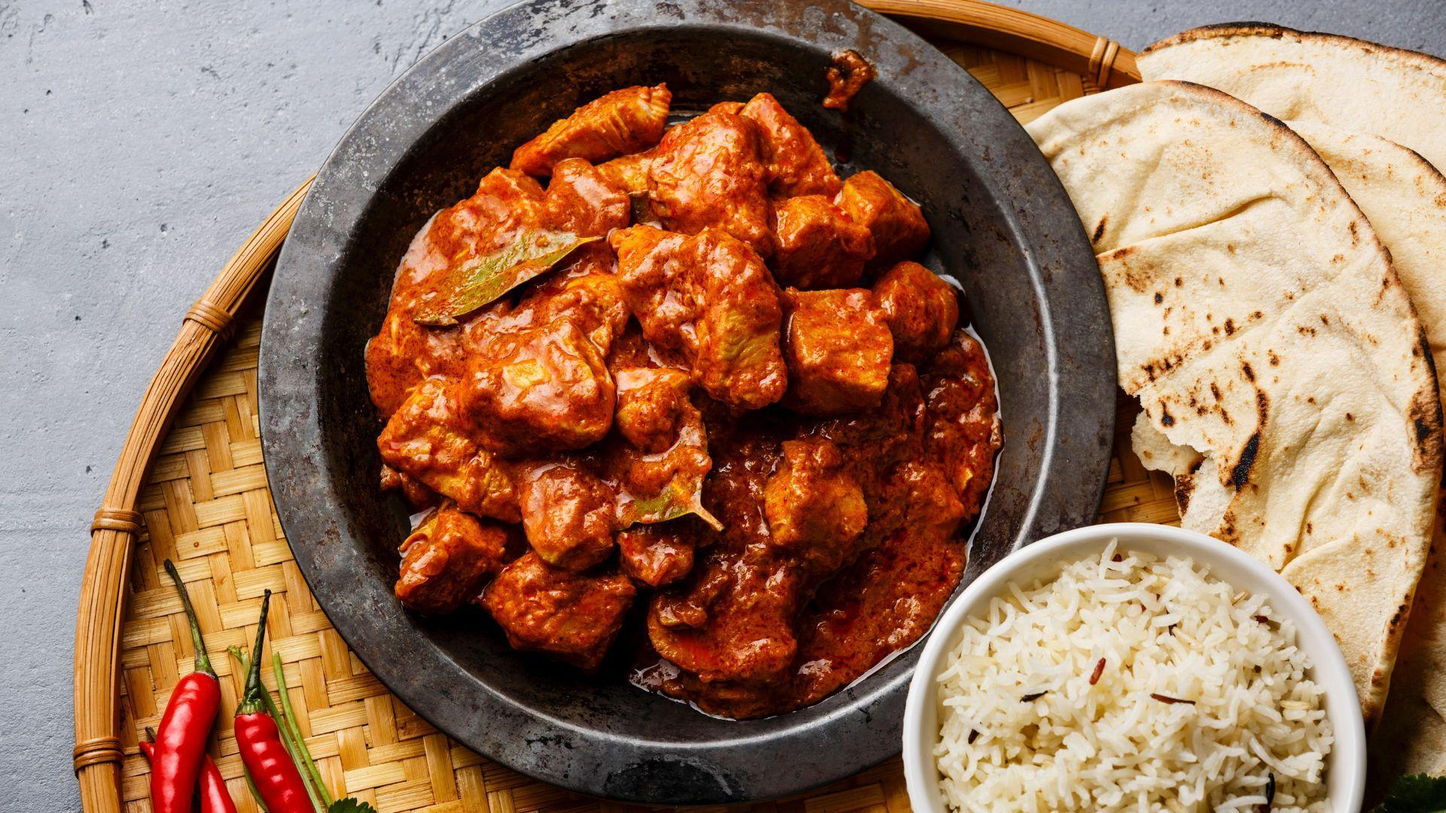chicken: (336, 102, 1012, 682)
rice: (969, 568, 1320, 813)
roti: (1072, 61, 1438, 622)
